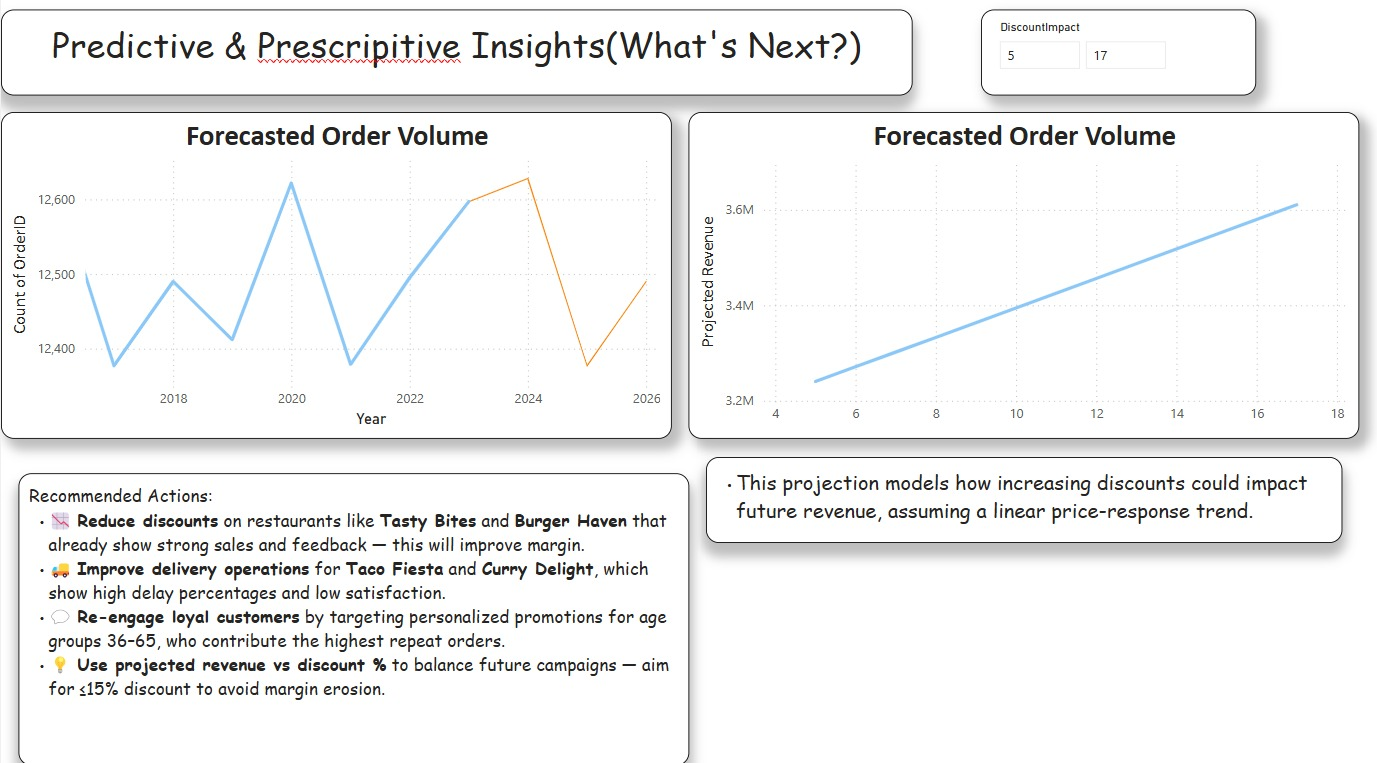

What the dashboard file says about the page in this screenshot:
{"tool":"powerbi","page":{"name":"Predictive & Prescripitive Insights(What's Next?)","canvas":[1280,720],"ordinal":6},"visuals":[{"type":"textbox","box":[0,0,816,80],"z":0},{"type":"lineChart","title":"Forecasted Order Volume","fields":{"Category":["Food_Delivery final dataset.OrderDate.Variation.Date Hierarchy.Year","Food_Delivery final dataset.OrderDate.Variation.Date Hierarchy.Month"],"Y":["CountNonNull(Food_Delivery final dataset.OrderID)"]},"box":[0,112,624,304],"z":1000},{"type":"slicer","fields":{"Values":["DiscountImpact.DiscountImpact"]},"box":[992,0,256,80],"z":2000},{"type":"lineChart","title":"Forecasted Order Volume","fields":{"Y":["Food_Delivery final dataset.Projected Revenue"],"Category":["DiscountImpact.DiscountImpact"]},"box":[640,112,624,304],"z":3000},{"type":"textbox","box":[656,432,592,80],"z":4000},{"type":"textbox","box":[16,448,624,272],"z":5000}]}

Visuals, with their boxes in screenshot pixels (x1, y1, x2, y2), scaled from the page's 1280x720 canvas onto the 1377x763 screenshot:
textbox: <bbox>0, 0, 878, 85</bbox>
"Forecasted Order Volume" lineChart: <bbox>0, 119, 671, 441</bbox>
slicer - DiscountImpact.DiscountImpact: <bbox>1067, 0, 1343, 85</bbox>
"Forecasted Order Volume" lineChart: <bbox>688, 119, 1360, 441</bbox>
textbox: <bbox>706, 458, 1343, 543</bbox>
textbox: <bbox>17, 475, 688, 762</bbox>
